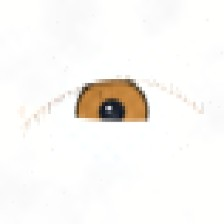pinguecula_lesion: (149, 105, 185, 134)
